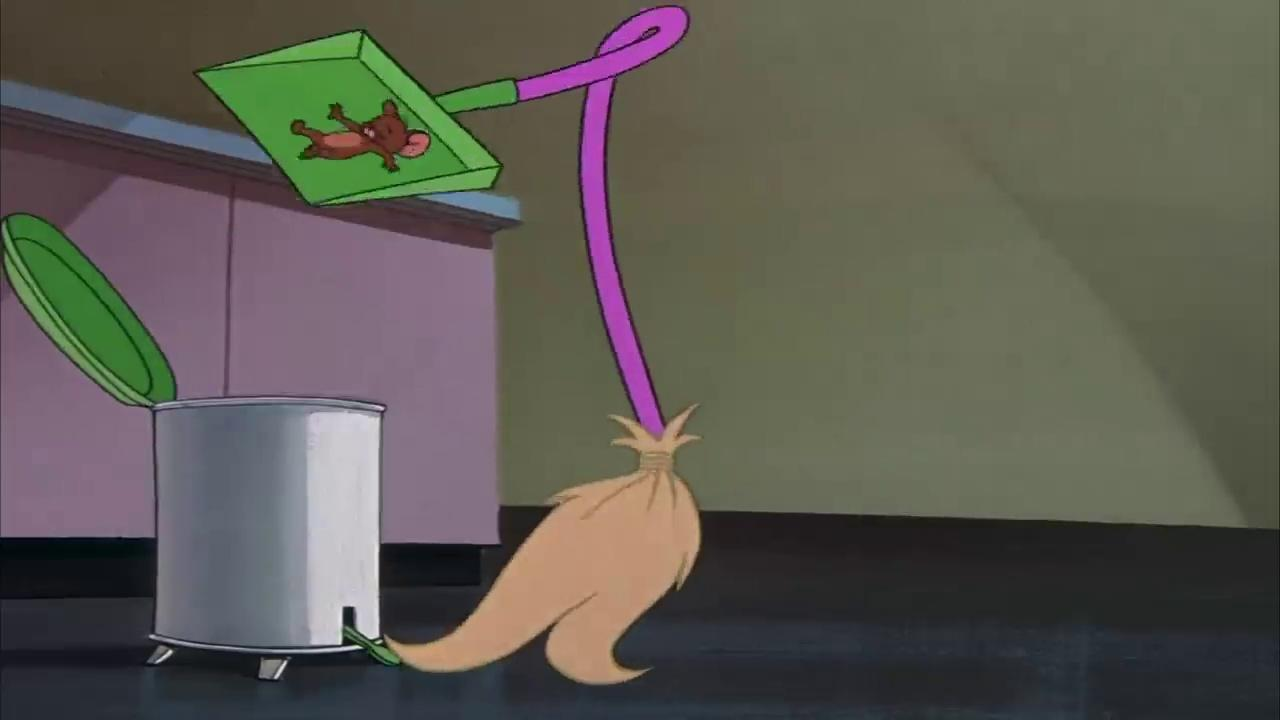Jerry: (283, 91, 433, 174)
